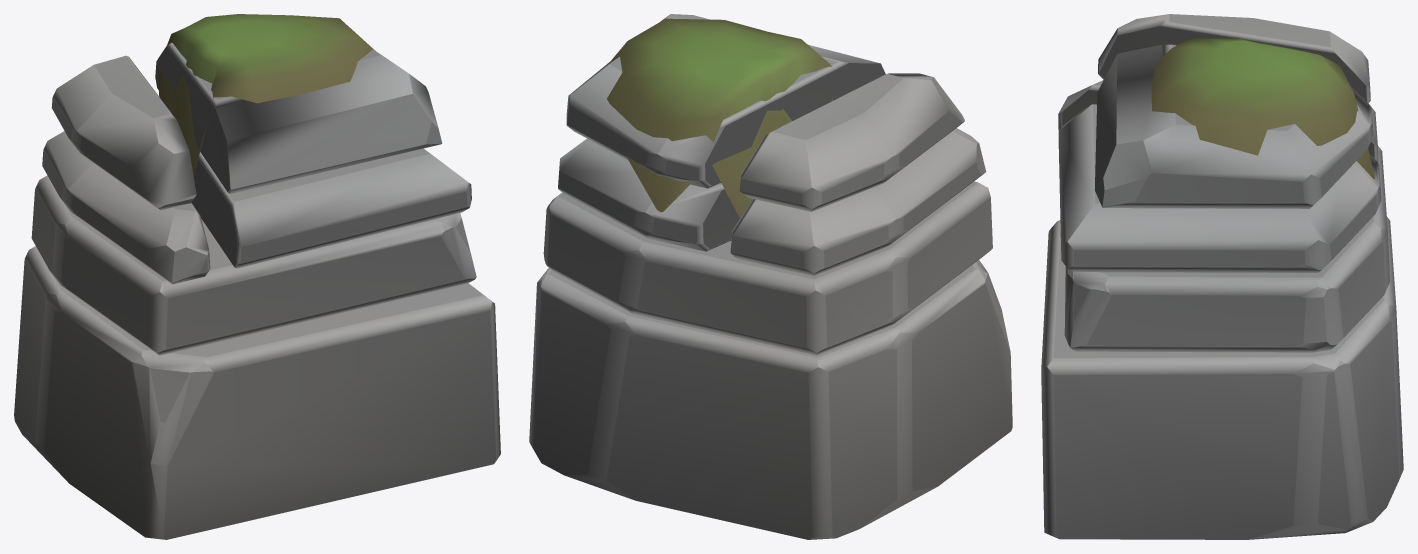
Rendered from ground_quarry_face_b.glb.
3 views of the same model, side by side, from view 1: azimuth 30°, elevation 25°; view 2: azimuth 150°, elevation 25°; view 3: azimuth 270°, elevation 25° (orthographic). The views are drawn at different scales.
Visible parts, largest first — view 1: ground_quarry_face_b_LOD0; view 2: ground_quarry_face_b_LOD0; view 3: ground_quarry_face_b_LOD0.
Part boxes in pixels (<box>): ground_quarry_face_b_LOD0: <box>14,14,500,539</box>; ground_quarry_face_b_LOD0: <box>529,14,1012,539</box>; ground_quarry_face_b_LOD0: <box>1041,14,1403,539</box>.
Size of what is drawn, in the model's own units: 1 by 1.06 by 0.8677.
